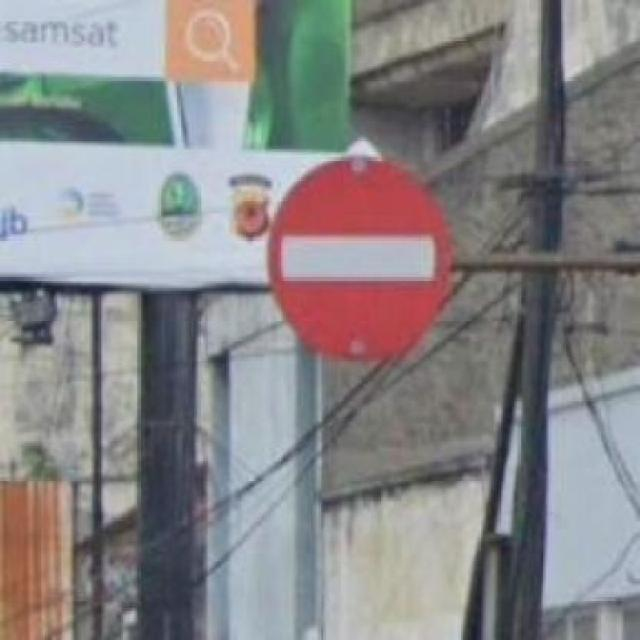no entry: (253, 143, 464, 371)
